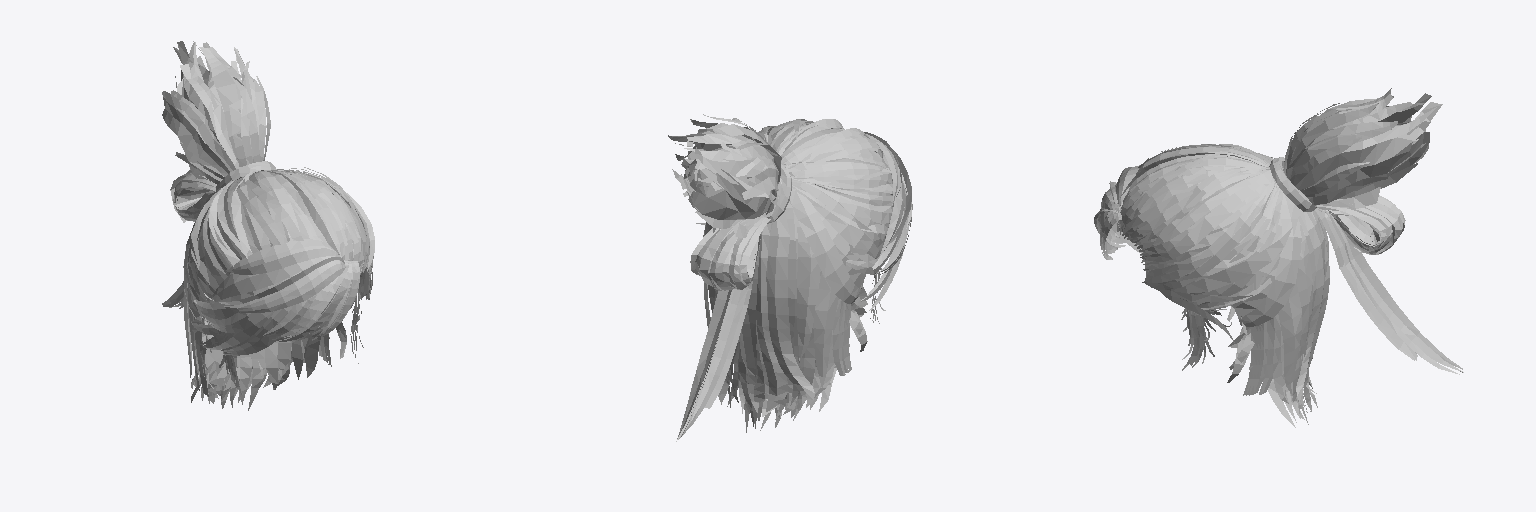
The picture shows the model from 3 angles: view 1: azimuth 30°, elevation 25°; view 2: azimuth 150°, elevation 25°; view 3: azimuth 270°, elevation 25°; orthographic projection.
Visible parts, largest first — view 1: Mesh_0046_ncl1_3 group1, group1 Mesh_0067_ncl1_6; view 2: Mesh_0046_ncl1_3 group1, group1 Mesh_0067_ncl1_6, group1 Mesh_0074_ncl1_3; view 3: Mesh_0046_ncl1_3 group1, group1 Mesh_0067_ncl1_6, group1 Mesh_0074_ncl1_3.
Boxes of the visible parts, box(x1,y1,x2,y2) form: Mesh_0046_ncl1_3 group1: box(183, 167, 374, 410); group1 Mesh_0067_ncl1_6: box(162, 41, 270, 308); Mesh_0046_ncl1_3 group1: box(696, 119, 912, 432); group1 Mesh_0067_ncl1_6: box(668, 114, 781, 441); group1 Mesh_0074_ncl1_3: box(763, 164, 791, 223); Mesh_0046_ncl1_3 group1: box(1094, 144, 1348, 427); group1 Mesh_0067_ncl1_6: box(1283, 88, 1463, 374); group1 Mesh_0074_ncl1_3: box(1269, 157, 1316, 211).
Size of the model in its own units: 39.17 by 73.62 by 73.66.